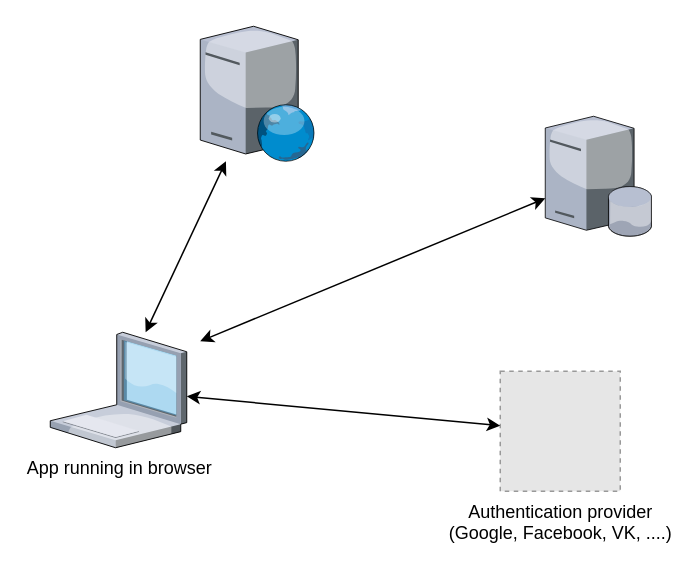
This 698x570 diagram has some shape labels left out. Grey dashed boxes stand in for pictures. Here are the shapes that lost their labels. From the top down, the centre of each, then its label:
the point at 257,93: CDN
the point at 597,176: Locker server
